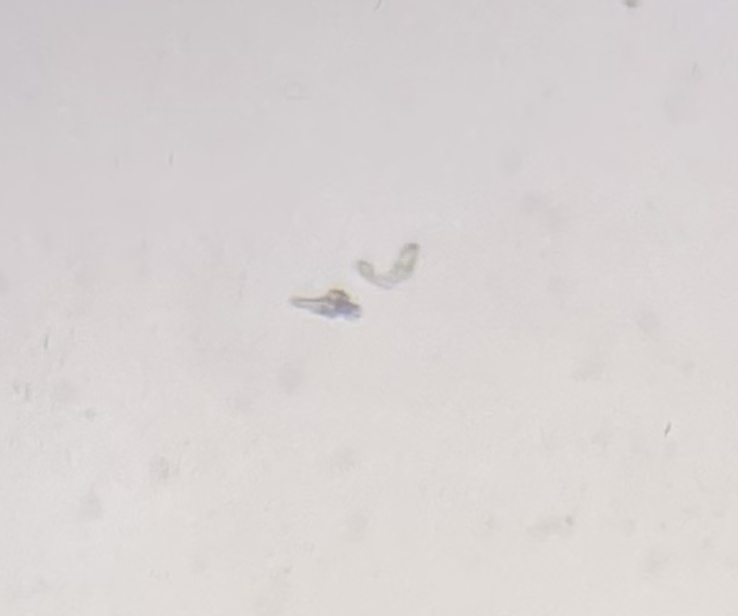microplastic: (288, 242, 418, 323)
